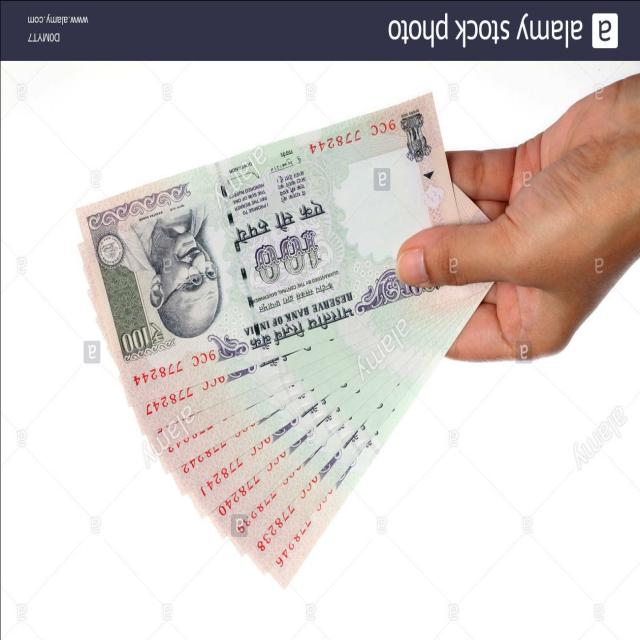100IndianRupees: (76, 96, 482, 398)
